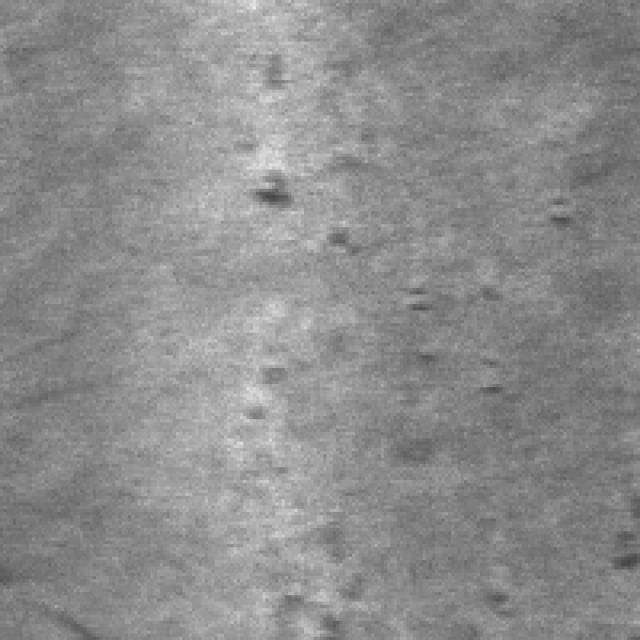rolled-in_scale: (388, 198, 566, 416), (243, 26, 384, 186)
